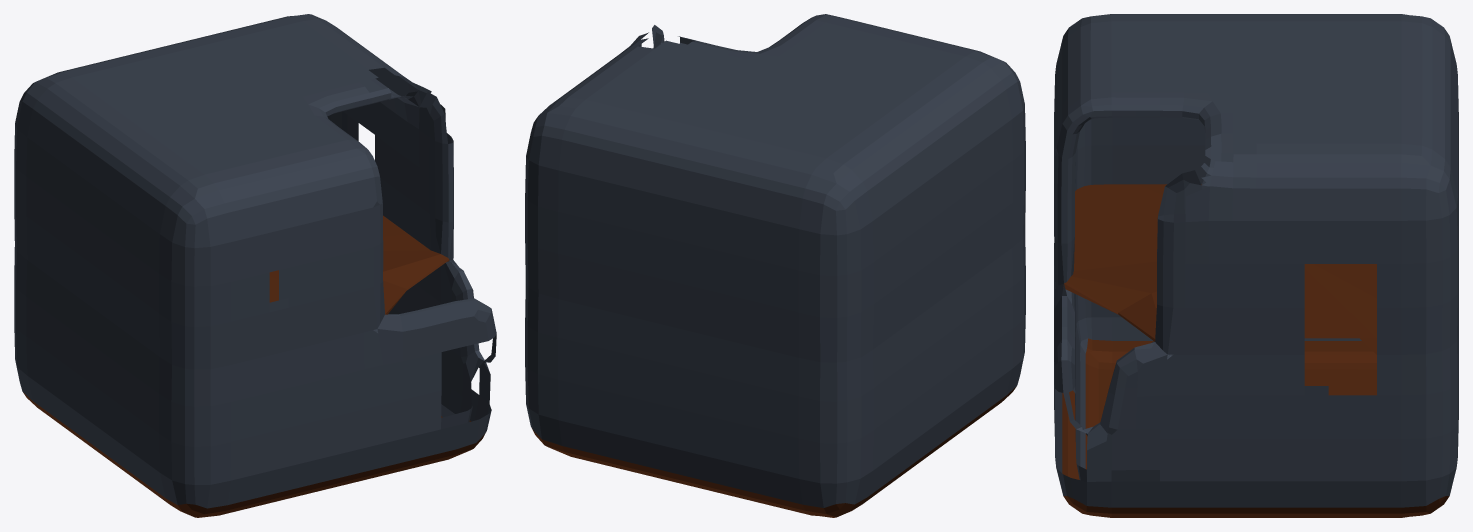
The model's file is brokenBuilding.fbx.
3 views of the same model, side by side, from view 1: azimuth 30°, elevation 25°; view 2: azimuth 150°, elevation 25°; view 3: azimuth 270°, elevation 25° (orthographic). The views are drawn at different scales.
Visible parts, largest first — view 1: brokenBuilding; view 2: brokenBuilding; view 3: brokenBuilding.
Part boxes in pixels (x1=…): brokenBuilding: x1=14, y1=14, x2=496, y2=517; brokenBuilding: x1=525, y1=14, x2=1025, y2=517; brokenBuilding: x1=1054, y1=14, x2=1458, y2=517.
Size of the model in its own units: 1032 by 1032 by 1032.
